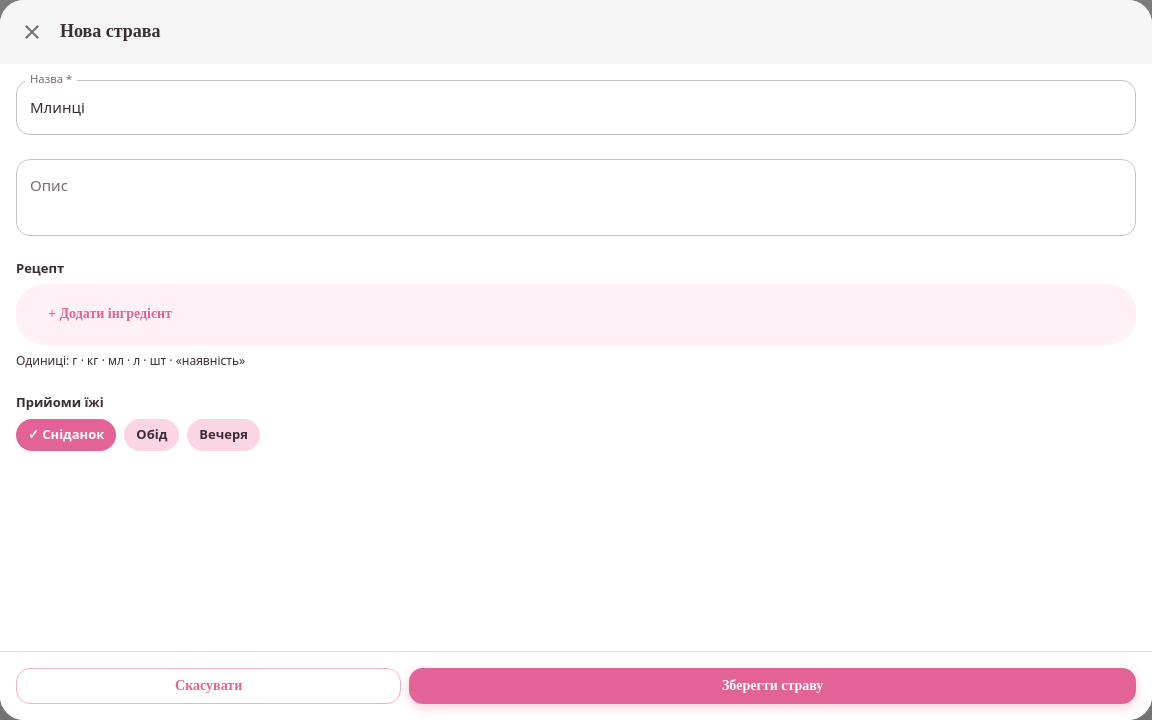
Scenario: DishFormDialog submit button validity › becomes disabled again if a valid form is edited back into an invalid state
This screenshot has width=1152, height=720.
Expected: the button "Зберегти страву" is enabled, x1=409 y1=668 x2=1136 y2=704
Clear the field labelled "Назва *": (576, 107) x1=16 y1=80 x2=1136 y2=135
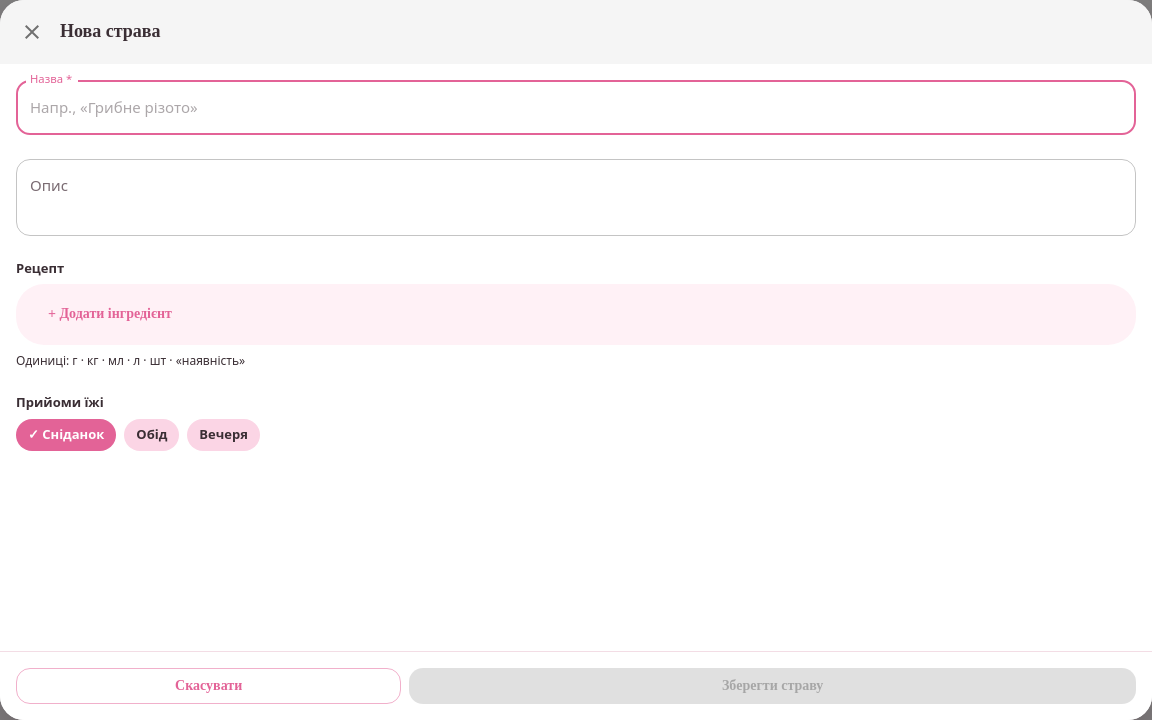
Expected: the button "Зберегти страву" is disabled, x1=409 y1=668 x2=1136 y2=704
